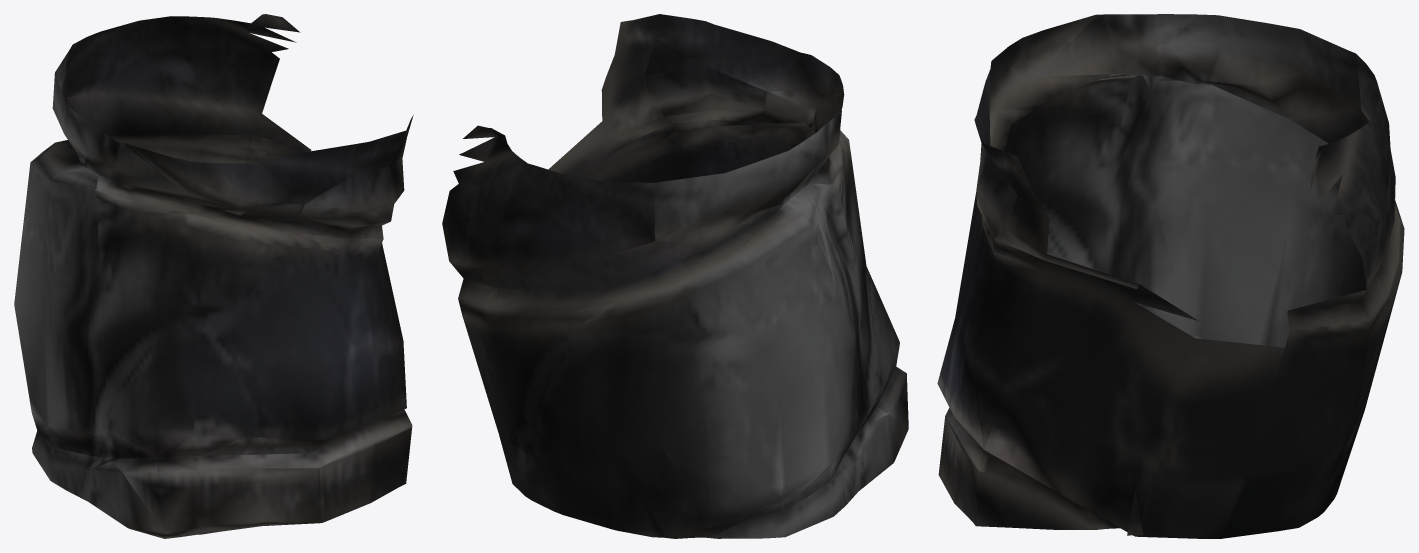
The model's file is RightLowerArm.glb.
The picture shows the model from 3 angles, left to right: view 1: azimuth 30°, elevation 25°; view 2: azimuth 150°, elevation 25°; view 3: azimuth 270°, elevation 25°; orthographic projection. The views are drawn at different scales.
Parts seen in each view (by area): view 1: RightLowerArm; view 2: RightLowerArm; view 3: RightLowerArm.
Part boxes in pixels (x1,y1,x2,y2): RightLowerArm: (14, 14, 413, 538); RightLowerArm: (442, 14, 908, 538); RightLowerArm: (937, 14, 1404, 538).
Bounding box in the file's own units: 1.21 × 1.31 × 1.4.
1 material, 1 textured.
